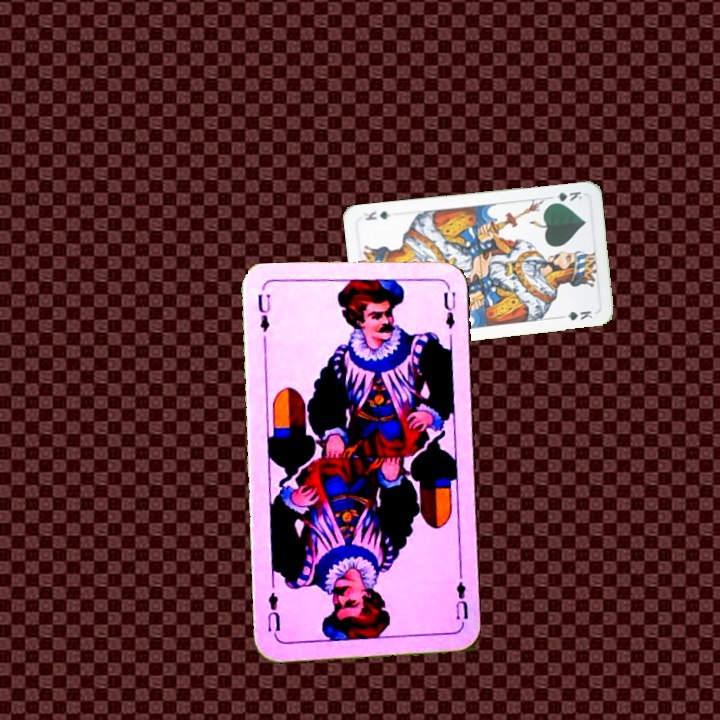EU: (452, 571, 470, 622), (253, 290, 273, 335)
GK: (545, 187, 585, 206)
